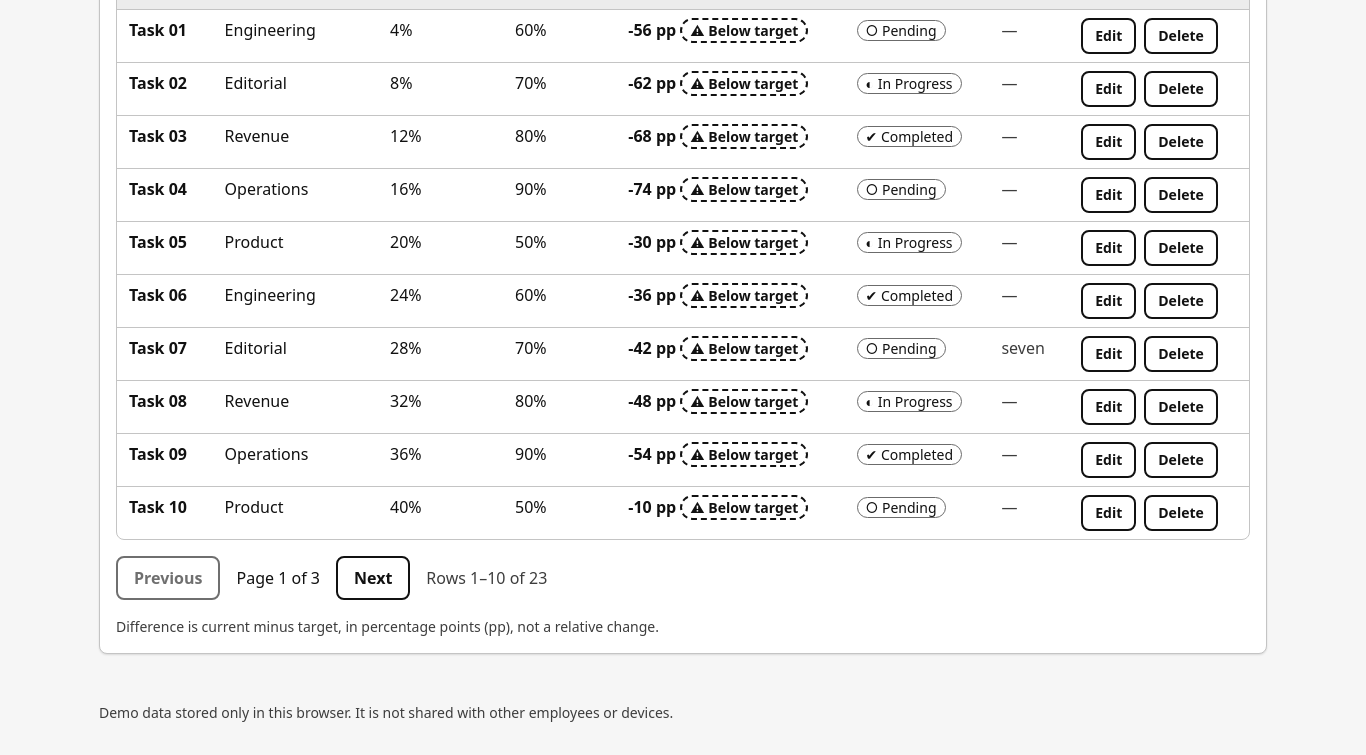
Scenario: pagination › supports 5, 10 and 20 rows per page and returns to page 1 when the size changes
(page scrolled)
Click the button "Next" at (373, 578), box [336,556,410,600]
(page scrolled)
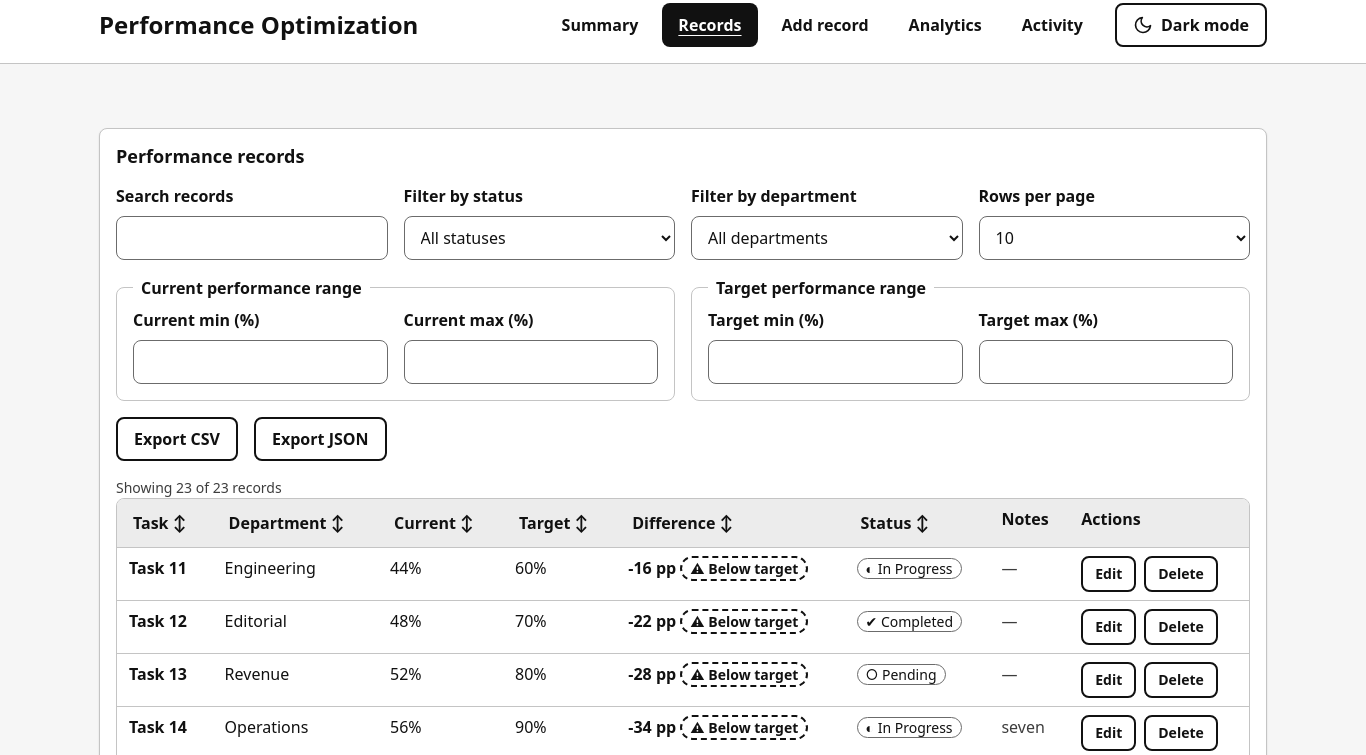
Select "5" in the dropdown labelled "Rows per page" at (1114, 238), box [978,216,1250,260]
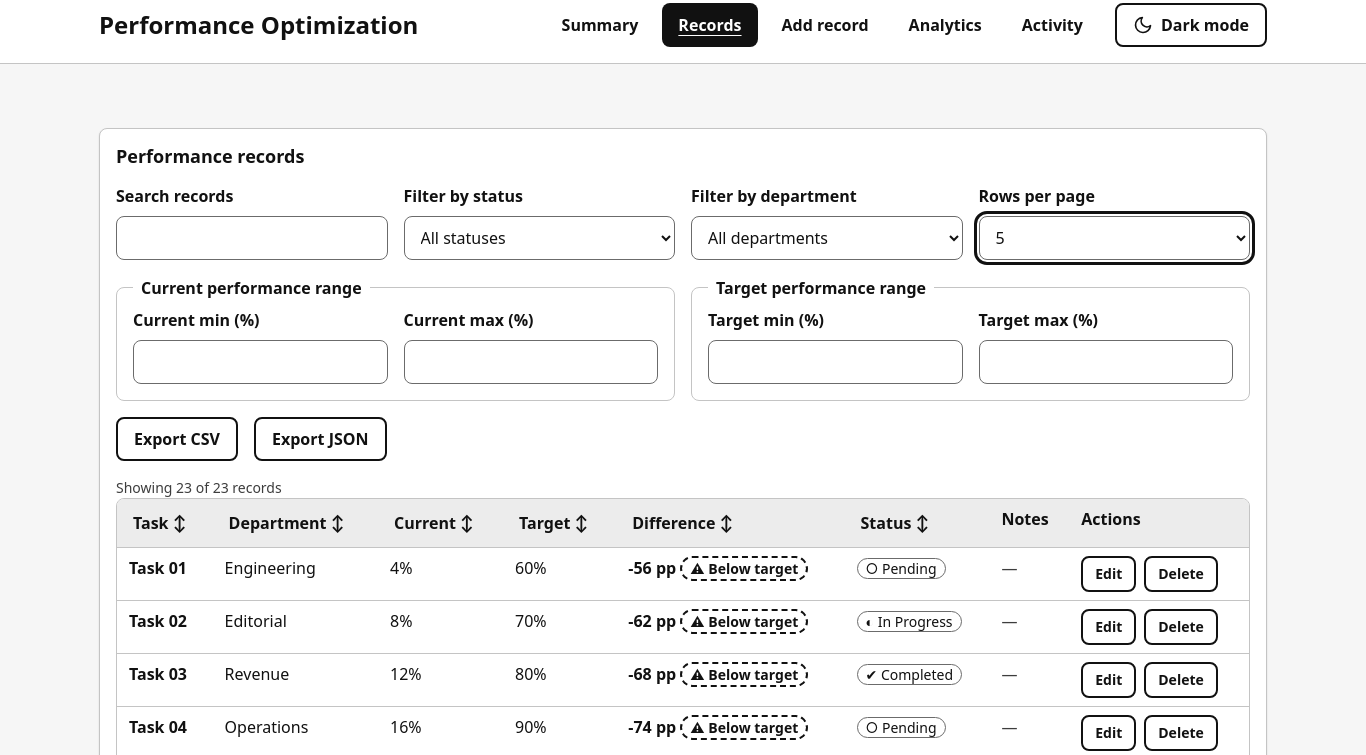
Select "20" in the dropdown labelled "Rows per page" at (1114, 238), box [978,216,1250,260]
(page scrolled)
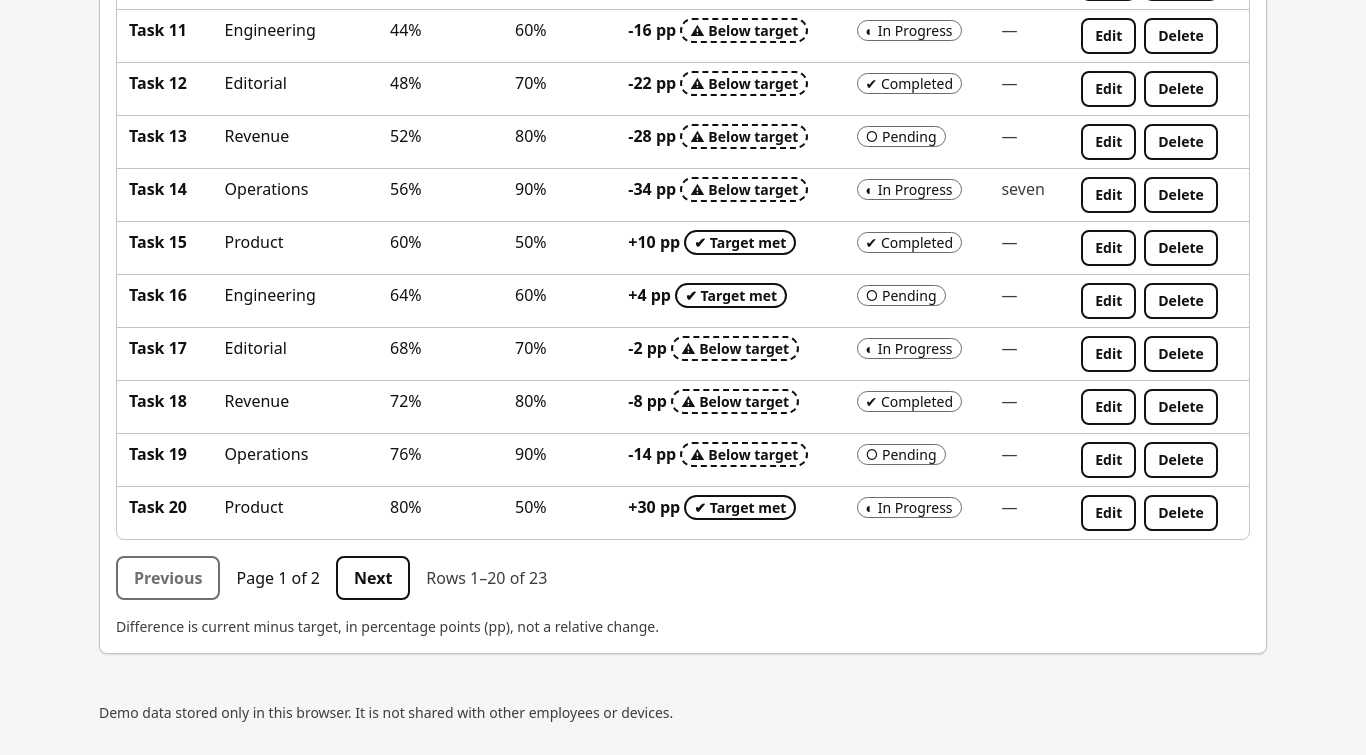
Check: the text "Page 1 of 2" is shown, box [236,566,320,590]
